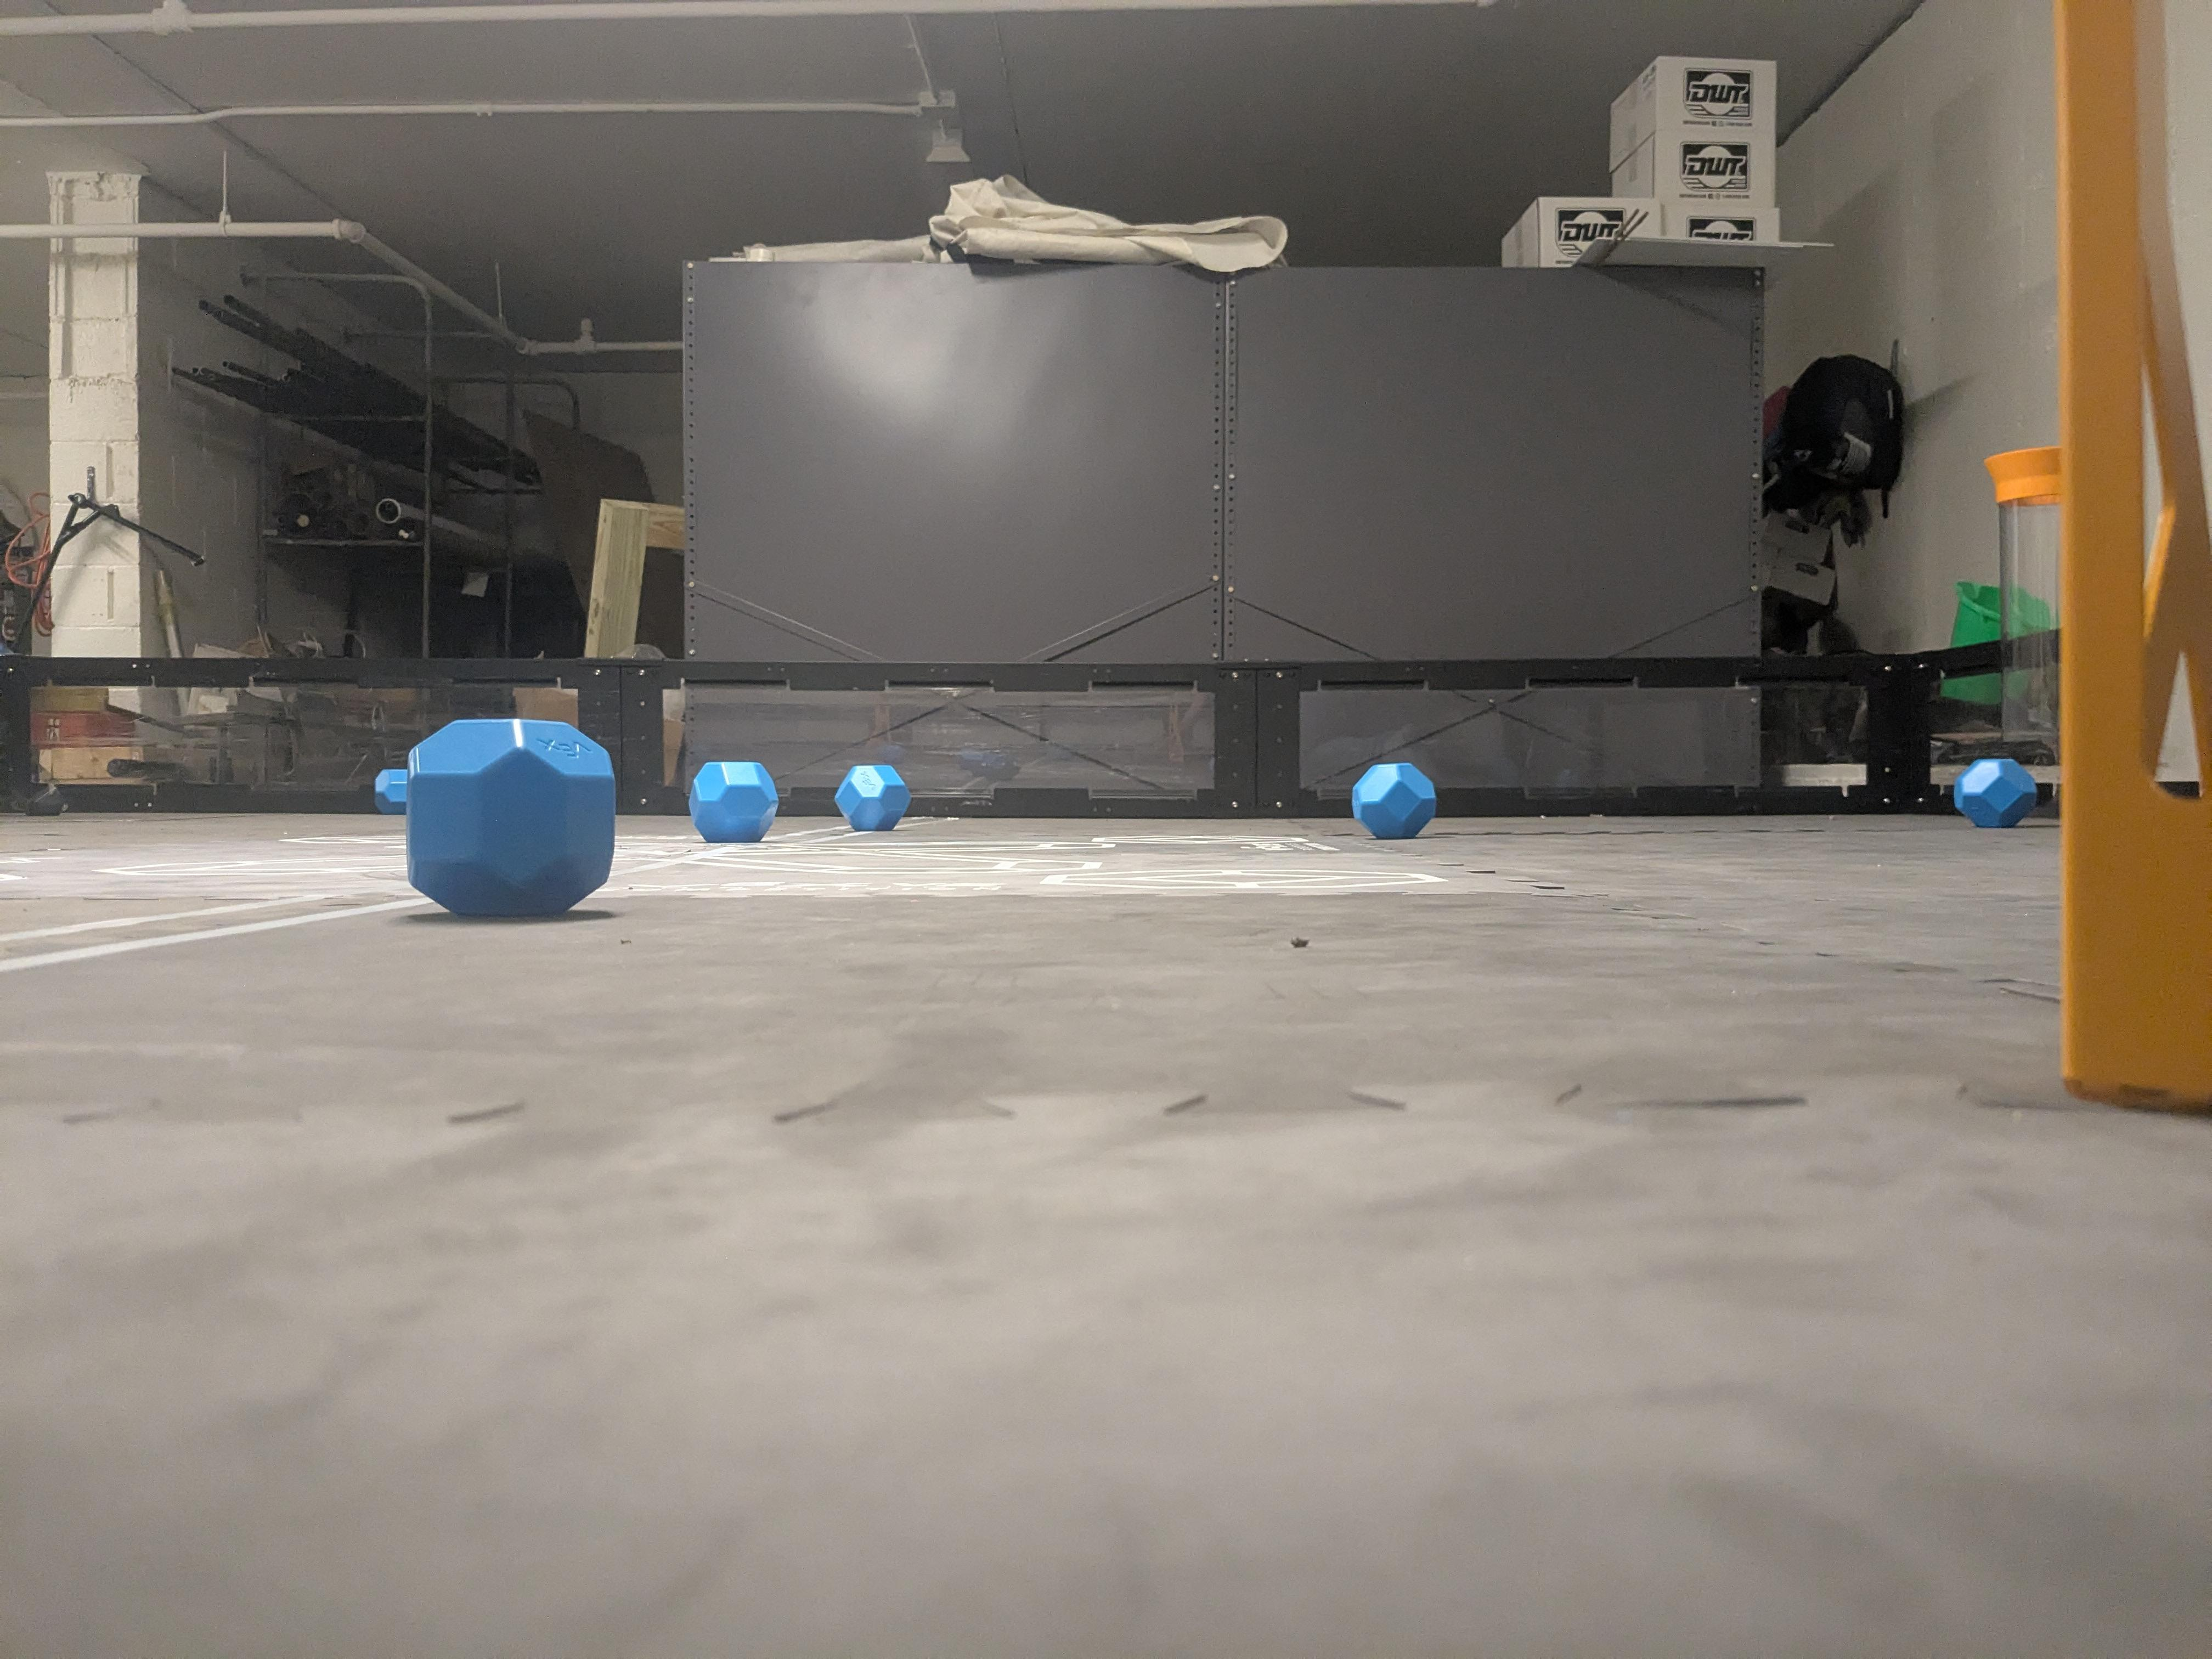Vex-Pieces-BLUE: (376, 720, 615, 915), (690, 762, 779, 842), (1952, 762, 2048, 826), (1350, 767, 1433, 838), (836, 767, 907, 826)
